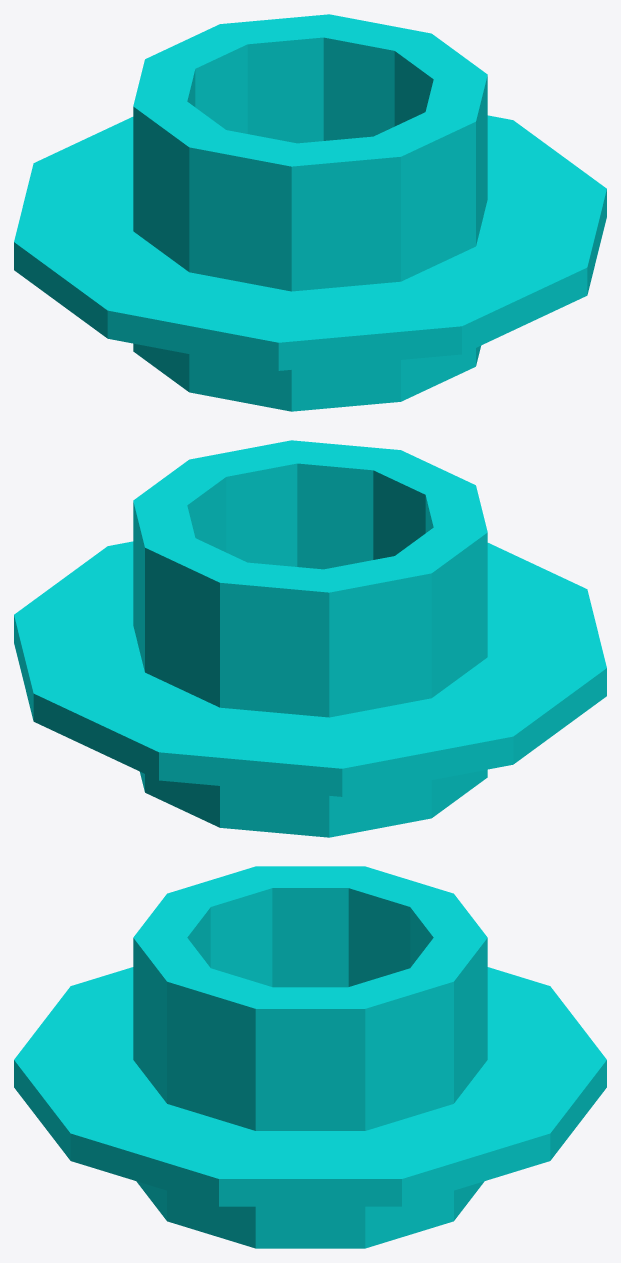
Rendered from SM_Prop_Planter_Bench_01_Collision.fbx.
The picture shows the model from 3 angles, top to bottom: view 1: azimuth 30°, elevation 25°; view 2: azimuth 150°, elevation 25°; view 3: azimuth 270°, elevation 25°; orthographic projection. The views are drawn at different scales.
Parts seen in each view (by area): view 1: SM_Prop_Planter_Bench_01_Collision; view 2: SM_Prop_Planter_Bench_01_Collision; view 3: SM_Prop_Planter_Bench_01_Collision.
Boxes of the visible parts, box(x1,y1,x2,y2) form: SM_Prop_Planter_Bench_01_Collision: box(14, 14, 606, 411); SM_Prop_Planter_Bench_01_Collision: box(14, 440, 606, 837); SM_Prop_Planter_Bench_01_Collision: box(14, 866, 606, 1248).
Size of the model in its own units: 259 by 121 by 272.
